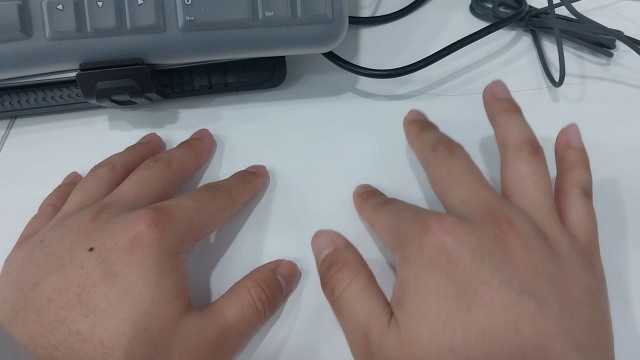fingers: (311, 228, 339, 267), (274, 258, 301, 296), (486, 79, 512, 100), (562, 122, 583, 148), (60, 170, 79, 187), (404, 108, 427, 122), (189, 127, 211, 141), (137, 131, 159, 144), (351, 182, 374, 194), (242, 163, 267, 174)
